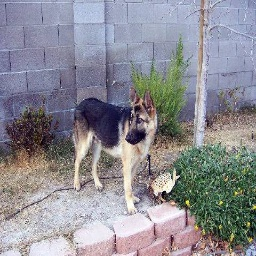dog: (65, 91, 159, 214)
